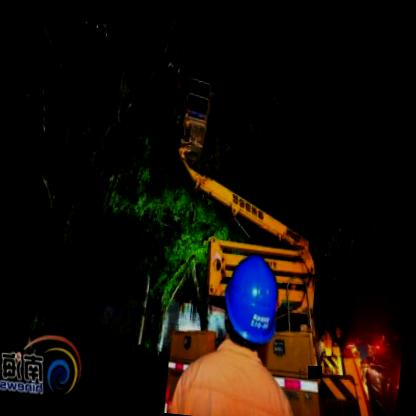helmet: (211, 244, 286, 374)
